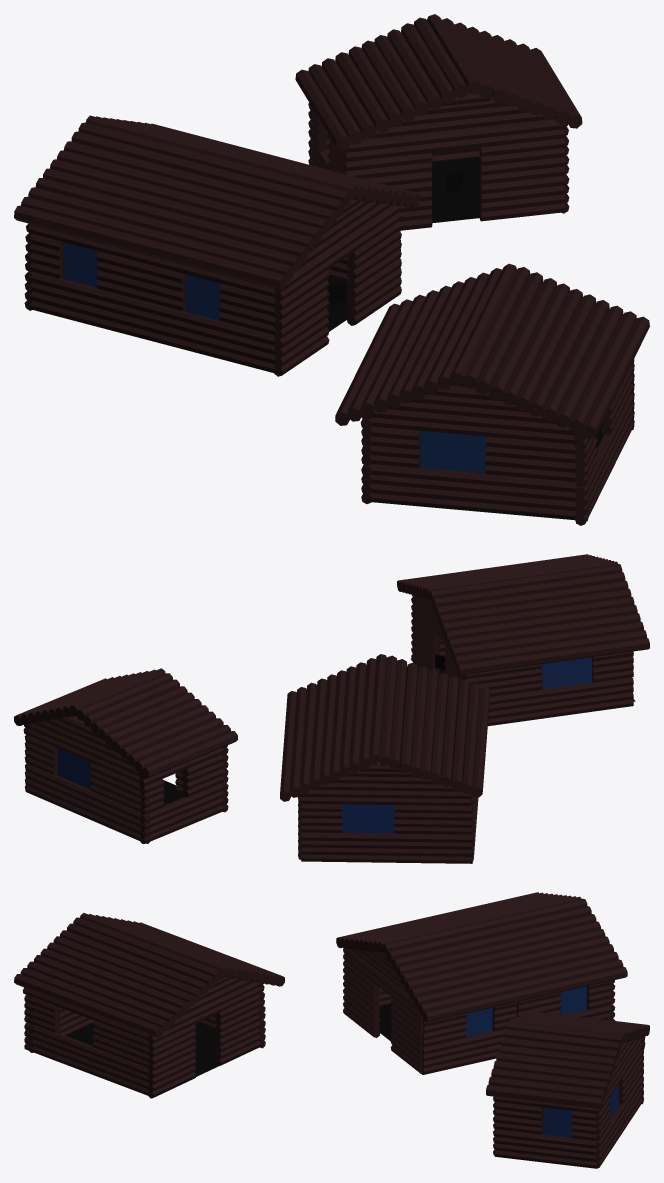
Rendered from malawioska.fbx.
The picture shows the model from 3 angles, top to bottom: view 1: azimuth 30°, elevation 25°; view 2: azimuth 150°, elevation 25°; view 3: azimuth 270°, elevation 25°; orthographic projection. The views are drawn at different scales.
Visible parts, largest first — view 1: Cylinder.266, Cylinder.274, Cylinder.269, Cylinder.268, Cylinder.270, Cylinder.271, Cylinder.273, Cylinder.272, Cylinder.275, Cylinder.267, Plane.014, Cylinder.265 (+82 smaller); view 2: Cylinder.417, Cylinder.425, Cylinder.420, Cylinder.419, Cylinder.421, Cylinder.422, Cylinder.424, Cylinder.423, Cylinder.426, Cylinder.418, Plane.011, Cylinder.217 (+64 smaller); view 3: Cylinder.256, Cylinder.264, Cylinder.259, Cylinder.258, Cylinder.260, Cylinder.261, Cylinder.263, Cylinder.427, Cylinder.262, Cylinder.265, Cylinder.257, Plane.019 (+57 smaller).
Part boxes in pixels (box(x1,y1,x2,y2)): Cylinder.266: box(14, 205, 287, 289); Cylinder.274: box(71, 131, 344, 215); Cylinder.269: box(35, 178, 308, 261); Cylinder.268: box(28, 187, 301, 271); Cylinder.270: box(43, 168, 316, 252); Cylinder.271: box(50, 159, 323, 243); Cylinder.273: box(64, 141, 337, 225); Cylinder.272: box(57, 150, 330, 234); Cylinder.275: box(78, 122, 351, 206); Cylinder.267: box(21, 196, 294, 280); Plane.014: box(431, 157, 481, 223); Cylinder.265: box(85, 115, 358, 199); Cylinder.417: box(456, 638, 649, 675); Cylinder.425: box(432, 572, 625, 609); Cylinder.420: box(447, 613, 640, 650); Cylinder.419: box(450, 621, 643, 659); Cylinder.421: box(444, 604, 637, 642); Cylinder.422: box(441, 596, 634, 634); Cylinder.424: box(435, 580, 628, 618); Cylinder.423: box(438, 588, 631, 626); Cylinder.426: box(429, 564, 622, 601); Cylinder.418: box(453, 630, 646, 667); Plane.011: box(342, 804, 393, 833); Cylinder.217: box(301, 832, 472, 842); Cylinder.256: box(422, 966, 627, 1022); Cylinder.264: box(386, 906, 591, 961); Cylinder.259: box(409, 944, 613, 999); Cylinder.258: box(413, 951, 618, 1007); Cylinder.260: box(404, 936, 609, 992); Cylinder.261: box(400, 929, 605, 984); Cylinder.263: box(391, 914, 596, 969); Cylinder.427: box(14, 974, 163, 1037); Cylinder.262: box(395, 921, 600, 977); Cylinder.265: box(382, 898, 587, 954); Cylinder.257: box(418, 959, 623, 1015); Plane.019: box(66, 1022, 263, 1094).
Size of the model in its own units: 6716 by 1742 by 8909.
